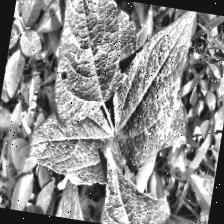ALS: (49, 0, 140, 132), (18, 97, 124, 192), (93, 160, 177, 224)
